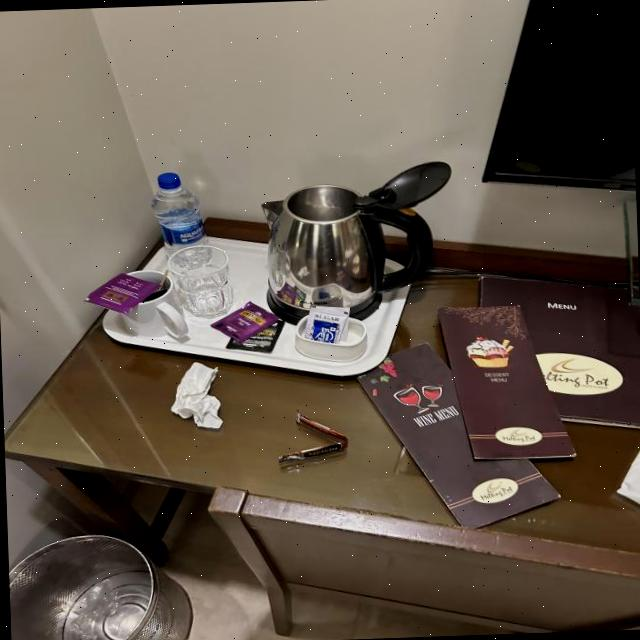chair: (203, 484, 640, 637)
mess: (477, 374, 600, 518), (269, 409, 357, 475), (181, 361, 230, 436)
messy_table: (4, 224, 640, 568)
